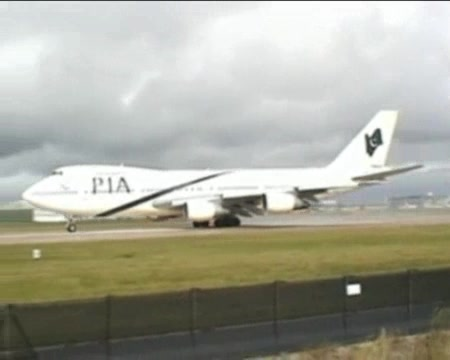aeroplane: (22, 110, 426, 230)
